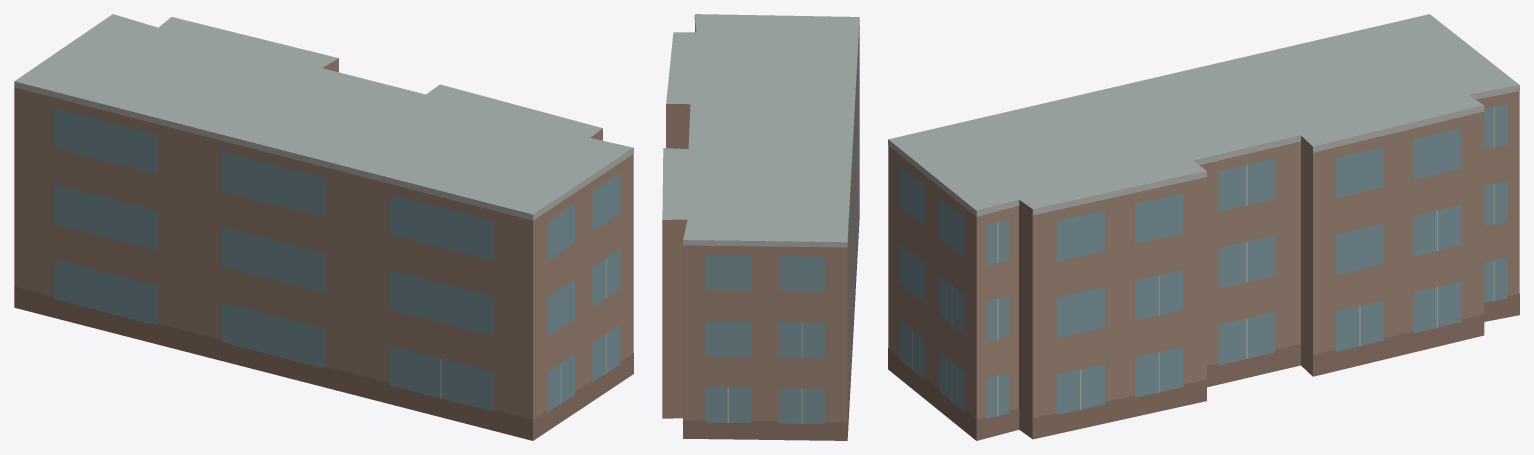
File: survey-upis-32907566.glb
The picture shows the model from 3 angles, left to right: view 1: azimuth 30°, elevation 25°; view 2: azimuth 150°, elevation 25°; view 3: azimuth 270°, elevation 25°; orthographic projection. The views are drawn at different scales.
Parts seen in each view (by area): view 1: survey-upis-32907566.tmp; view 2: survey-upis-32907566.tmp; view 3: survey-upis-32907566.tmp.
Part boxes in pixels (x1,y1,x2,y2): survey-upis-32907566.tmp: (14,14,633,440); survey-upis-32907566.tmp: (662,14,859,440); survey-upis-32907566.tmp: (888,14,1519,440).
Size of the model in its own units: 16.79 by 9.15 by 22.77.
